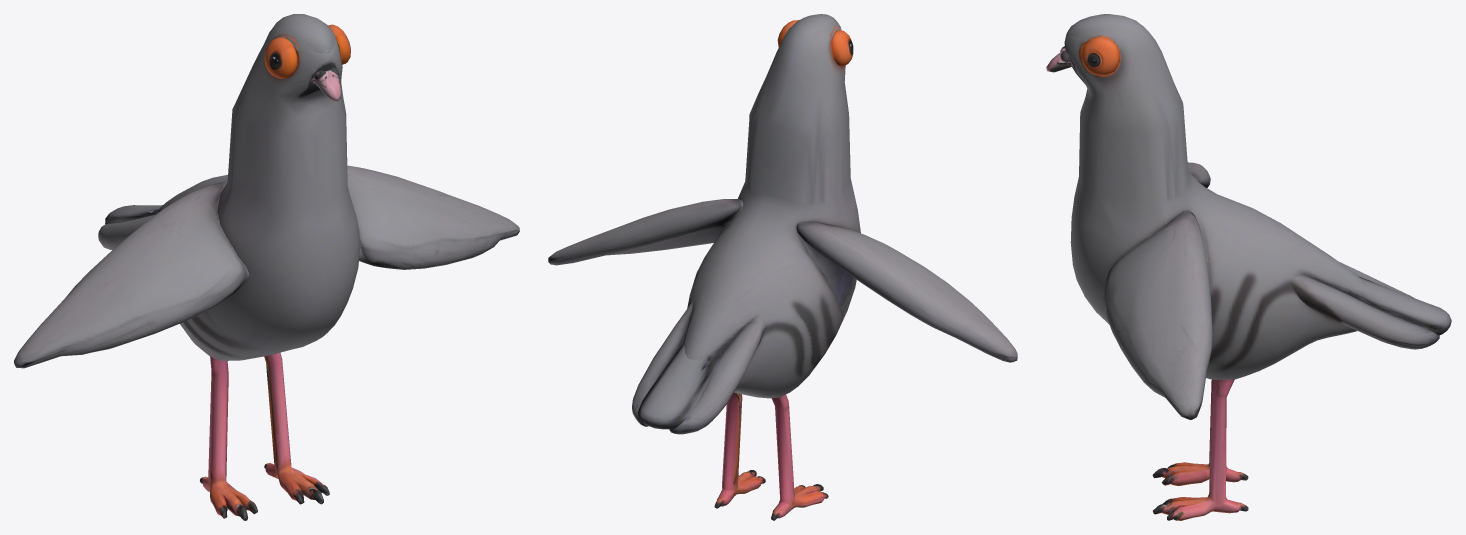
File: pigeon.glb
3 views of the same model, side by side, from view 1: azimuth 30°, elevation 25°; view 2: azimuth 150°, elevation 25°; view 3: azimuth 270°, elevation 25° (orthographic). The views are drawn at different scales.
Bounding box in the file's own units: 2 × 1.89 × 1.45.
Materials: 1 (1 with a texture image).
